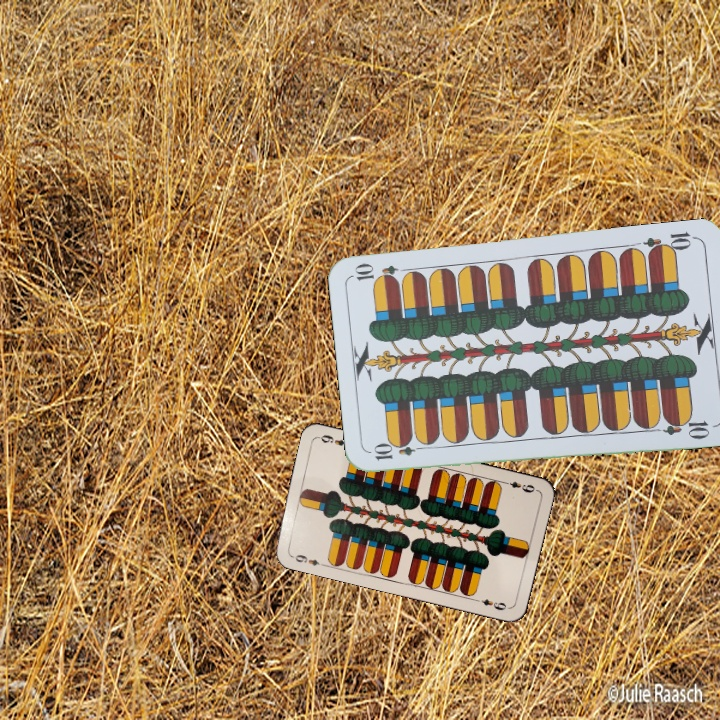E10: (640, 228, 699, 258), (370, 440, 429, 463)
E9: (499, 477, 539, 495), (287, 550, 327, 568)
